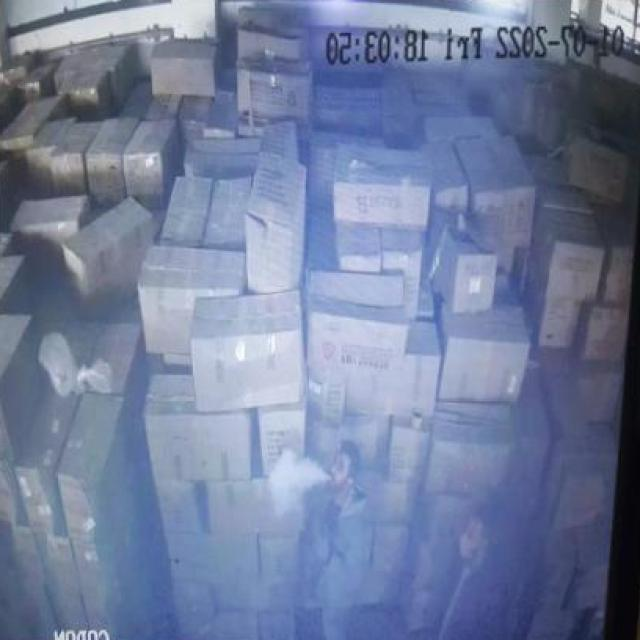fire: (267, 440, 328, 523)
